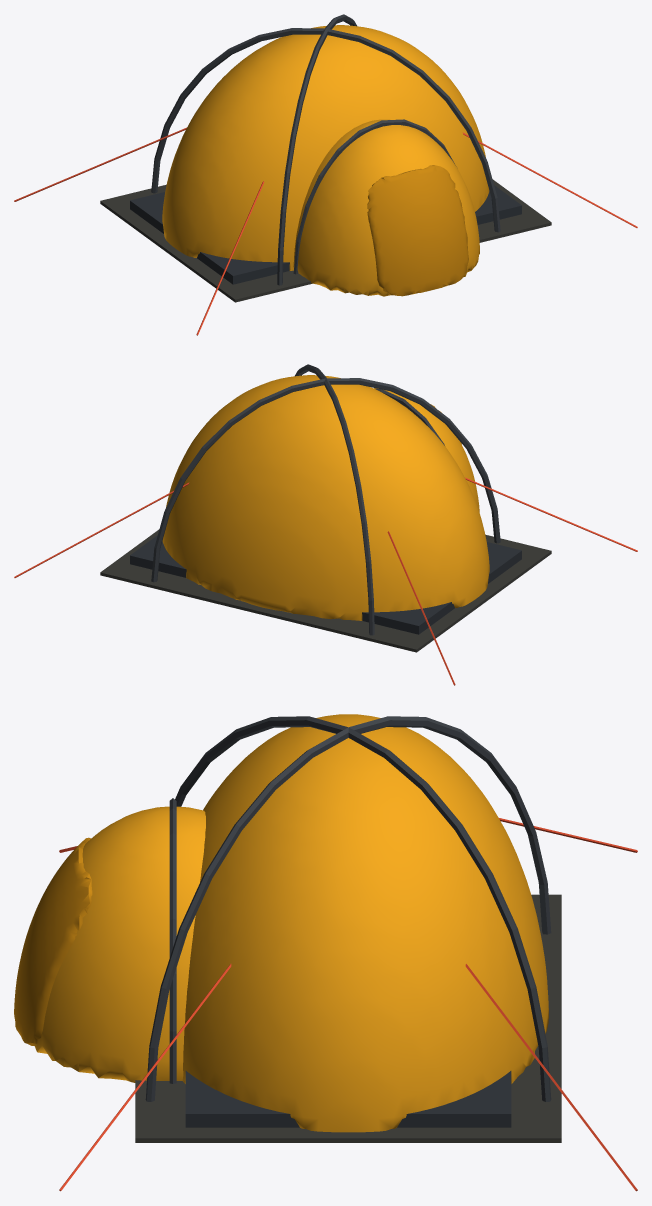
File: tent.glb
3 views of the same model, one above another, from view 1: azimuth 30°, elevation 25°; view 2: azimuth 150°, elevation 25°; view 3: azimuth 270°, elevation 25° (orthographic). The views are drawn at different scales.
Parts seen in each view (by area): view 1: fly1, fly2, door3, sheet0, pole5, trim7, pole4, pole6; view 2: fly1, sheet0, pole4, trim7, pole5, fly2; view 3: fly1, fly2, sheet0, pole5, door3, trim7, pole4, pole6, line10, line8.
Boxes of the visible parts, left/top/right/bottom form: fly1: left=162, top=25, right=489, bottom=270; fly2: left=293, top=119, right=479, bottom=296; door3: left=367, top=165, right=468, bottom=296; sheet0: left=100, top=179, right=551, bottom=302; pole5: left=151, top=28, right=500, bottom=232; trim7: left=130, top=185, right=521, bottom=284; pole4: left=277, top=14, right=356, bottom=285; pole6: left=293, top=119, right=456, bottom=274; fly1: left=162, top=375, right=489, bottom=620; sheet0: left=100, top=529, right=551, bottom=652; pole4: left=151, top=378, right=500, bottom=582; trim7: left=130, top=535, right=521, bottom=634; pole5: left=295, top=364, right=374, bottom=635; fly2: left=374, top=388, right=479, bottom=512; fly1: left=182, top=714, right=548, bottom=1132; fly2: left=34, top=806, right=205, bottom=1082; sheet0: left=135, top=894, right=561, bottom=1142; pole5: left=145, top=716, right=551, bottom=1101; door3: left=14, top=837, right=92, bottom=1045; trim7: left=185, top=1071, right=511, bottom=1127; pole4: left=175, top=716, right=551, bottom=1101; pole6: left=169, top=798, right=176, bottom=1083; line10: left=465, top=964, right=637, bottom=1191; line8: left=59, top=964, right=231, bottom=1191.
Size of the model in its own units: 3.21 by 1.3 by 2.49.
